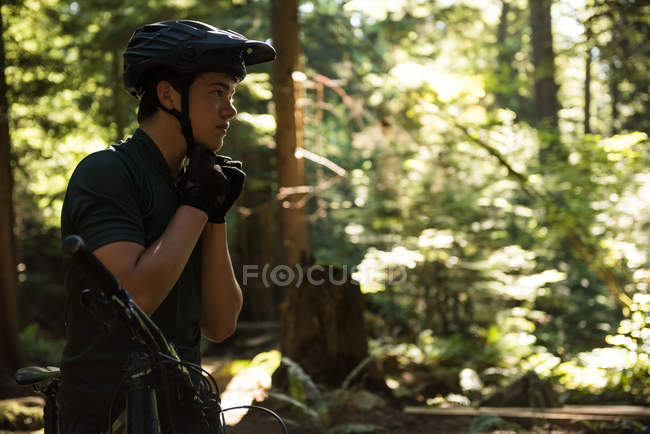helmet: (123, 19, 276, 152)
